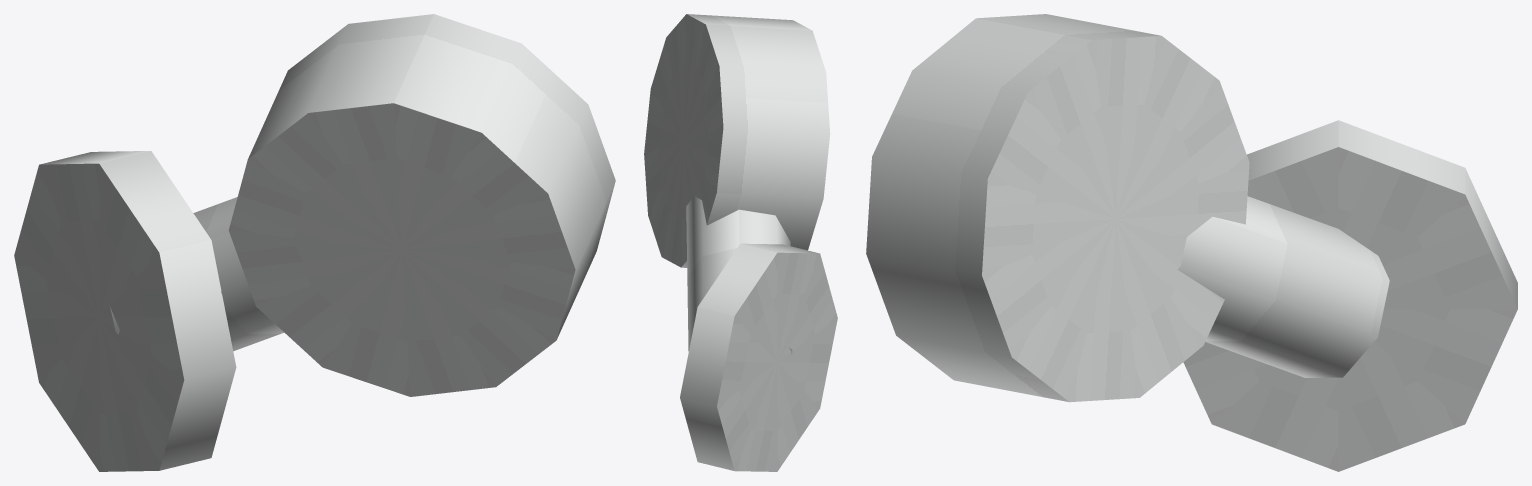
Rendered from nycsignalarm_stub_113.obj.
3 renders of one model, left to right at view 1: azimuth 30°, elevation 25°; view 2: azimuth 150°, elevation 25°; view 3: azimuth 270°, elevation 25°, orthographic. The views are drawn at different scales.
Visible parts, largest first — view 1: nycsignalarm_stub_113; view 2: nycsignalarm_stub_113; view 3: nycsignalarm_stub_113.
Boxes of the visible parts, bbox=[...] form: nycsignalarm_stub_113: bbox=[14, 14, 615, 471]; nycsignalarm_stub_113: bbox=[644, 14, 837, 471]; nycsignalarm_stub_113: bbox=[866, 14, 1517, 471].
Size of the model in its own units: 0.4151 by 0.5567 by 0.6361.
